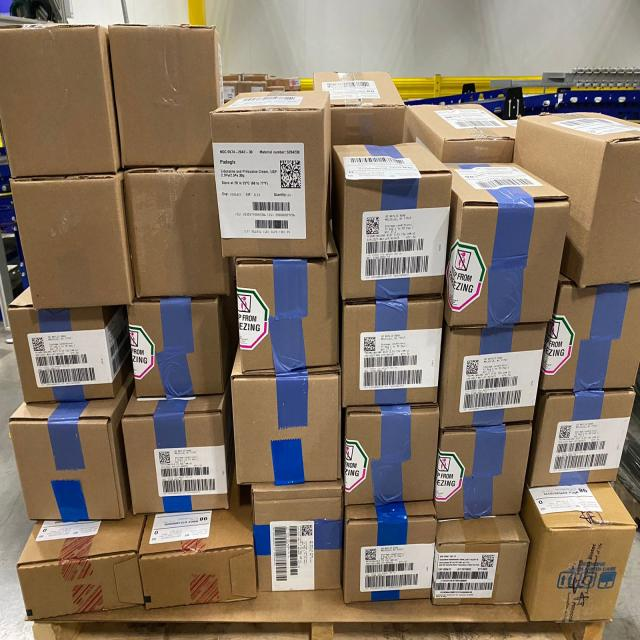BoxFace: (208, 86, 332, 259), (444, 158, 570, 327), (331, 139, 452, 300), (1, 19, 119, 178), (8, 378, 131, 522), (10, 172, 134, 309), (520, 479, 636, 623), (108, 21, 222, 167), (230, 352, 341, 486), (6, 284, 129, 403), (120, 386, 234, 514), (15, 510, 144, 621), (123, 165, 230, 298), (232, 251, 340, 374), (138, 505, 257, 609), (438, 321, 547, 427), (340, 296, 444, 406), (538, 279, 638, 392), (527, 388, 635, 486), (250, 480, 343, 593), (126, 295, 228, 398), (342, 402, 440, 504), (432, 422, 532, 519), (342, 502, 436, 604), (430, 512, 530, 606)
